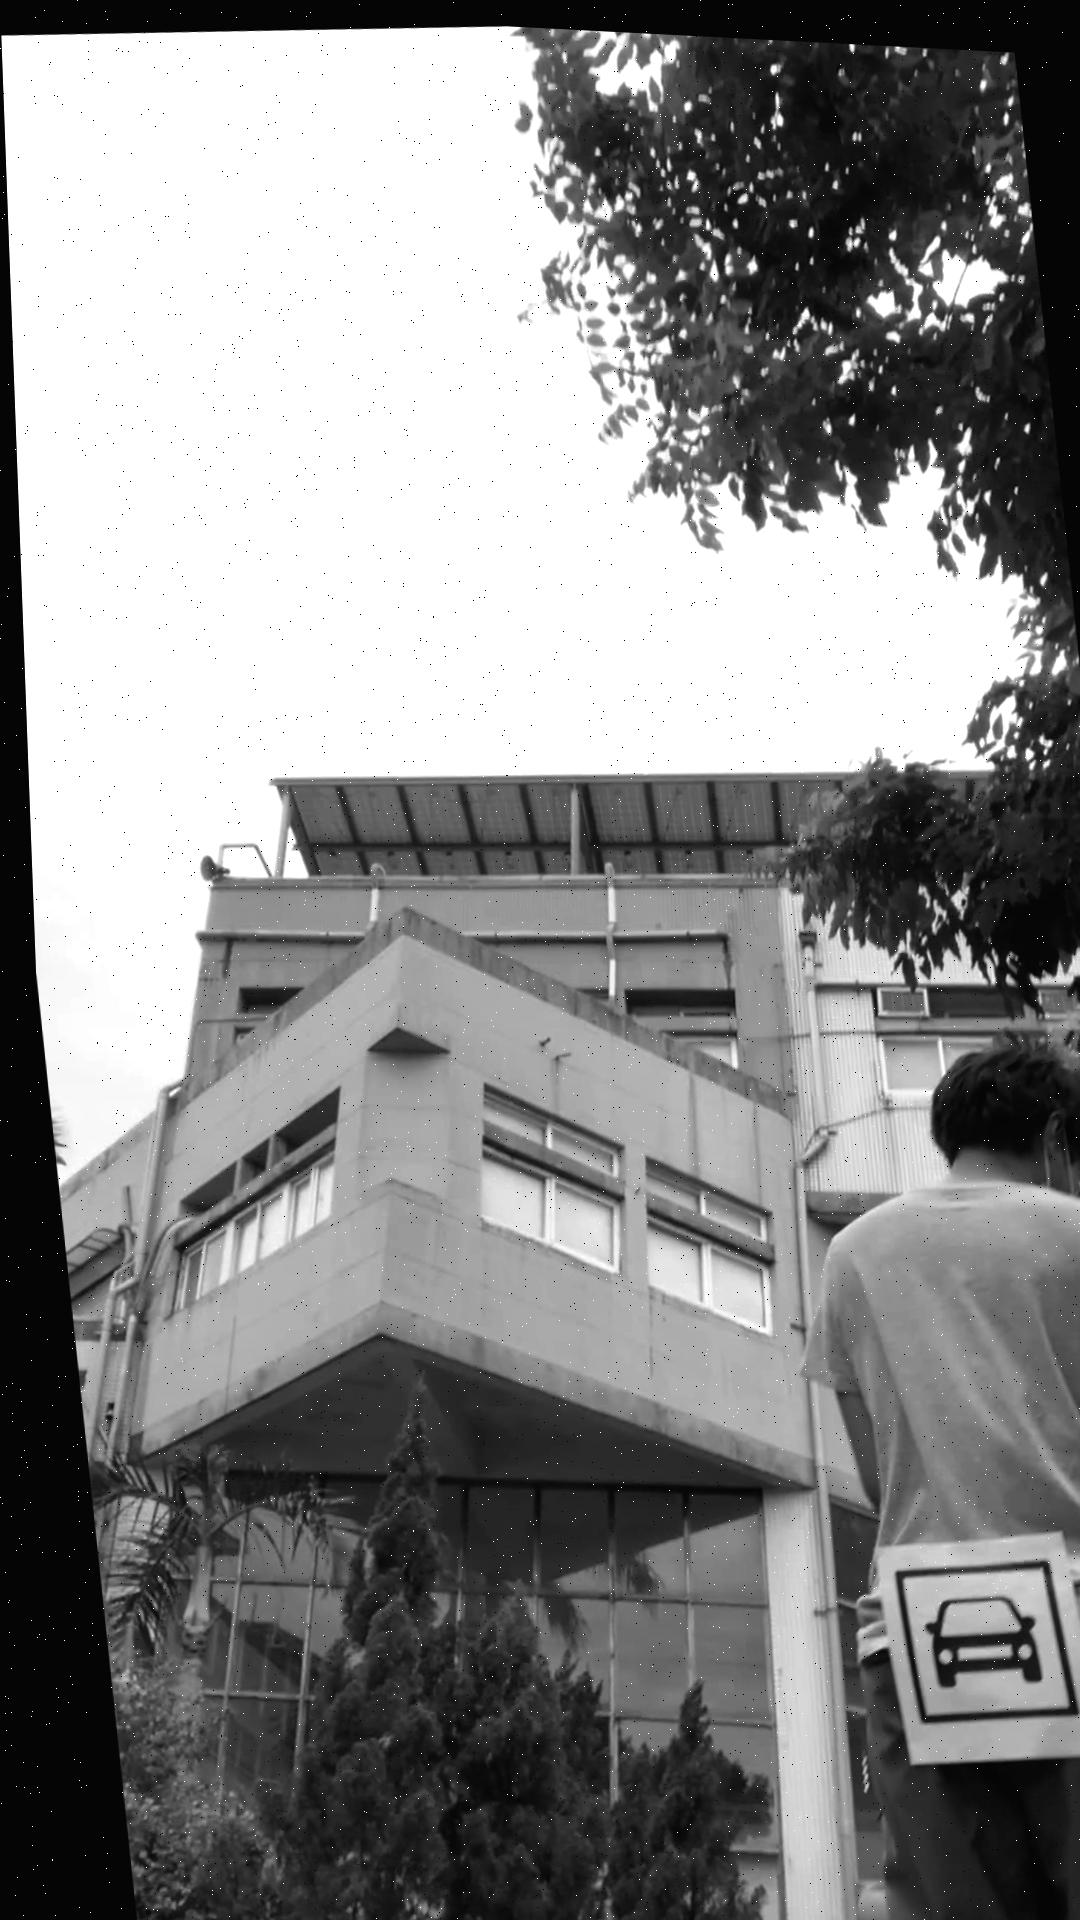car_img: (881, 1542, 1067, 1721)
